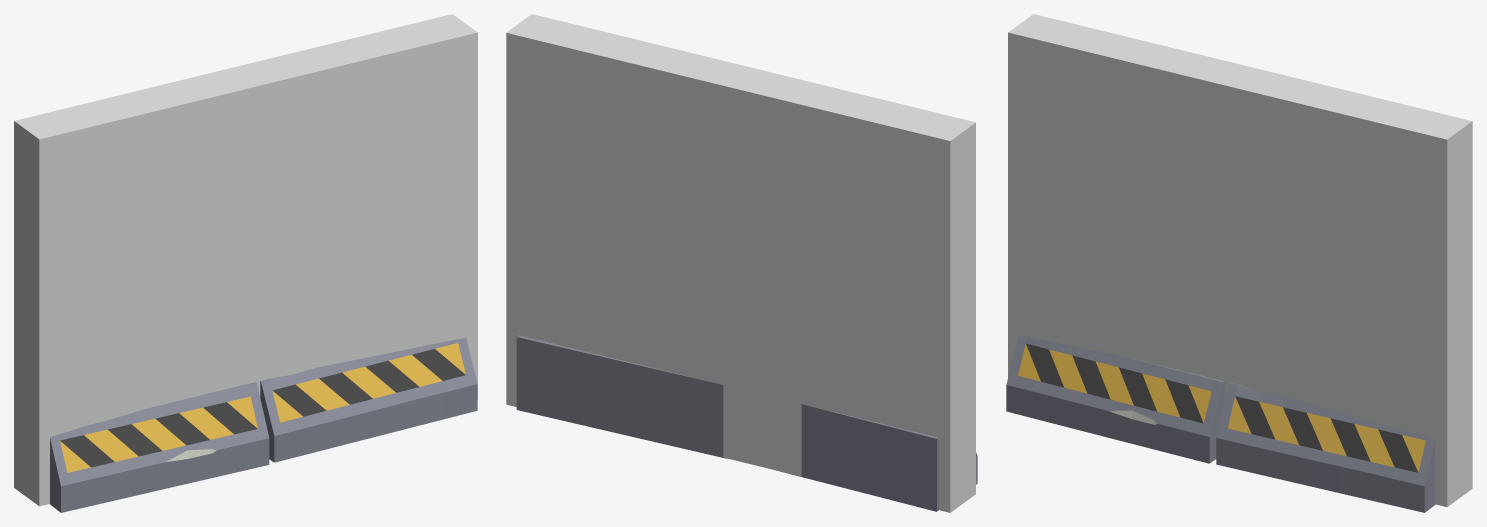
File: Barrier.gltf
3 renders of one model, left to right at view 1: azimuth 30°, elevation 25°; view 2: azimuth 150°, elevation 25°; view 3: azimuth 330°, elevation 25°, orthographic.
Parts seen in each view (by area): view 1: COL, Barrier_Large; view 2: COL, Barrier_Large; view 3: COL, Barrier_Large.
Boxes of the visible parts, left/top/right/bottom form: COL: left=14, top=14, right=477, bottom=506; Barrier_Large: left=50, top=337, right=477, bottom=512; COL: left=506, top=14, right=975, bottom=512; Barrier_Large: left=516, top=335, right=977, bottom=511; COL: left=1008, top=14, right=1472, bottom=506; Barrier_Large: left=1006, top=335, right=1435, bottom=512.
Bounding box in the file's own units: 4 × 3.2 × 0.6666.
